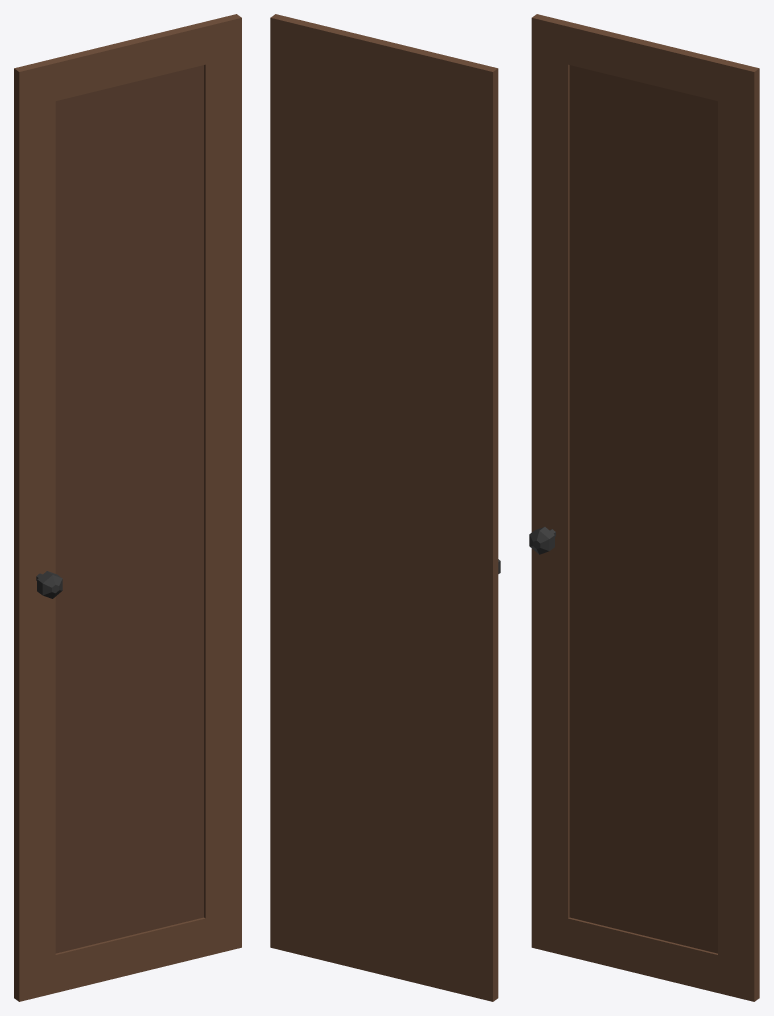
Rendered from Wardrobe7_C3_02.fbx.
3 views of the same model, side by side, from view 1: azimuth 30°, elevation 25°; view 2: azimuth 150°, elevation 25°; view 3: azimuth 330°, elevation 25° (orthographic).
Parts seen in each view (by area): view 1: Wardrobe7_C3_02; view 2: Wardrobe7_C3_02; view 3: Wardrobe7_C3_02.
Part boxes in pixels (left/top/right/bottom): Wardrobe7_C3_02: left=14, top=14, right=241, bottom=1001; Wardrobe7_C3_02: left=270, top=14, right=500, bottom=1001; Wardrobe7_C3_02: left=529, top=14, right=759, bottom=1001.
Size of the model in its own units: 50 by 200 by 8.1.
